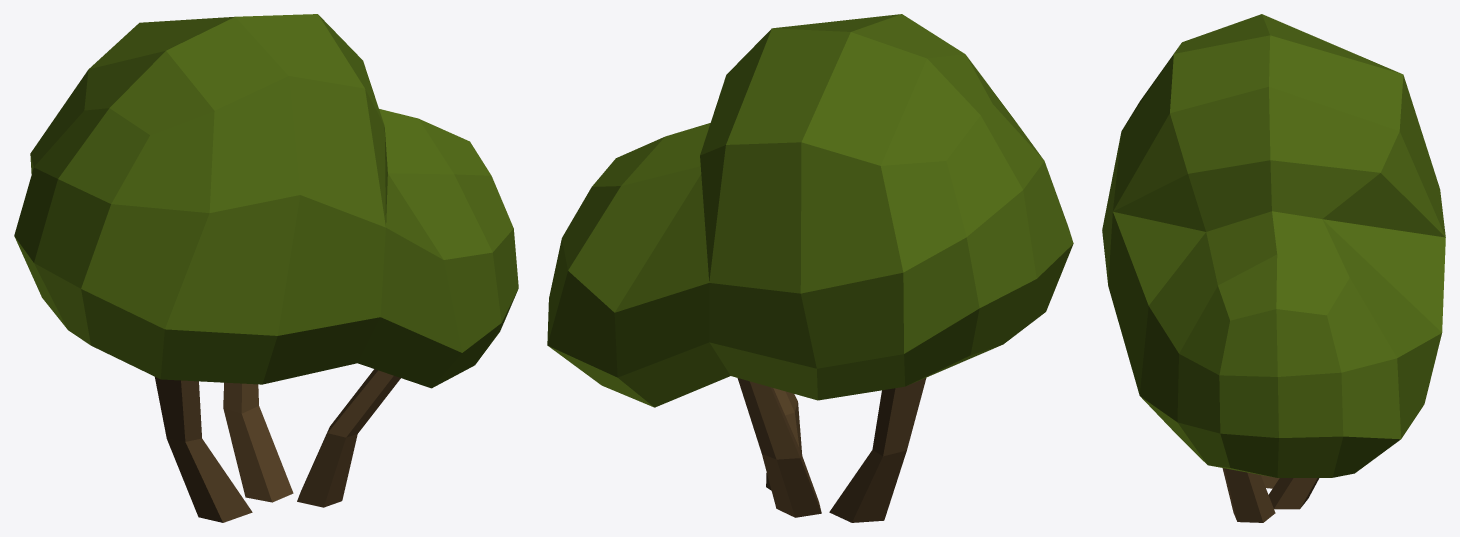
Rendered from TreesAndBushes_061.fbx.
The picture shows the model from 3 angles, left to right: view 1: azimuth 30°, elevation 25°; view 2: azimuth 150°, elevation 25°; view 3: azimuth 270°, elevation 25°; orthographic projection. The views are drawn at different scales.
Visible parts, largest first — view 1: TreesAndBushes_061; view 2: TreesAndBushes_061; view 3: TreesAndBushes_061.
Boxes of the visible parts, x1,y1,x2,y2 form: TreesAndBushes_061: (14,14,518,522); TreesAndBushes_061: (547,14,1073,522); TreesAndBushes_061: (1102,14,1445,522).
Bounding box in the file's own units: 108 × 109 × 75.93.
